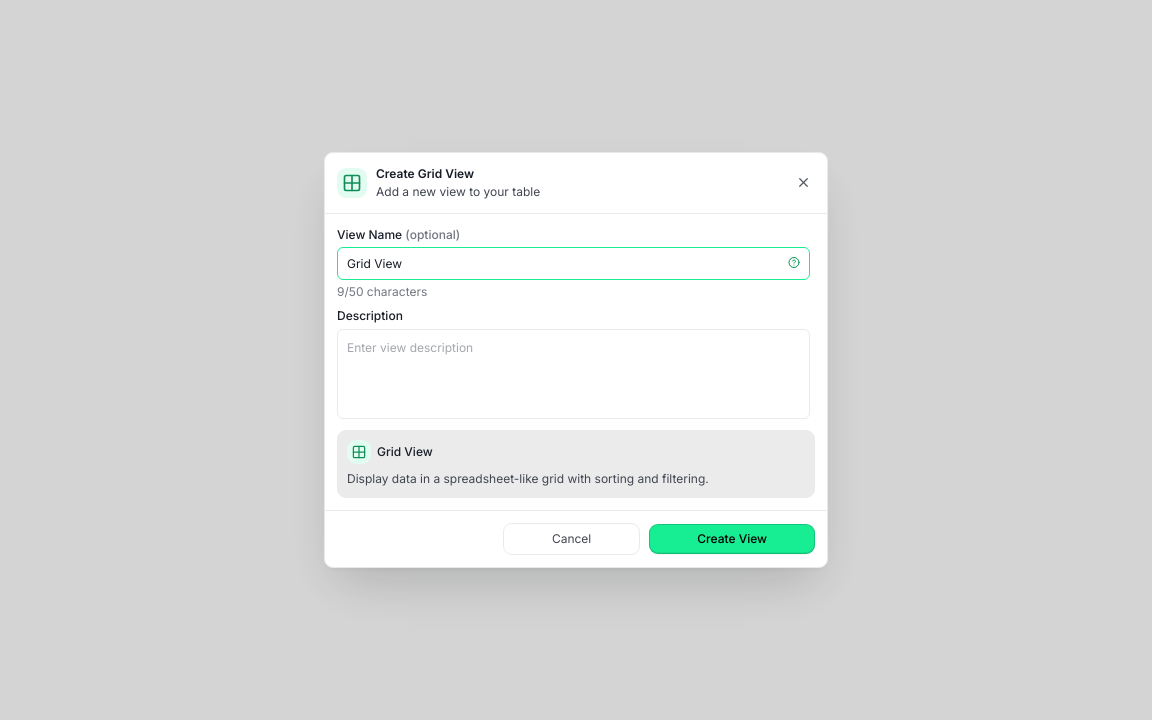
Test: CreateViewModal › form validation › shows validation error for duplicate view name
Replace the text in the field labelled "View Name (optional)" with "Existing View" at (574, 263), box [337, 247, 810, 280]
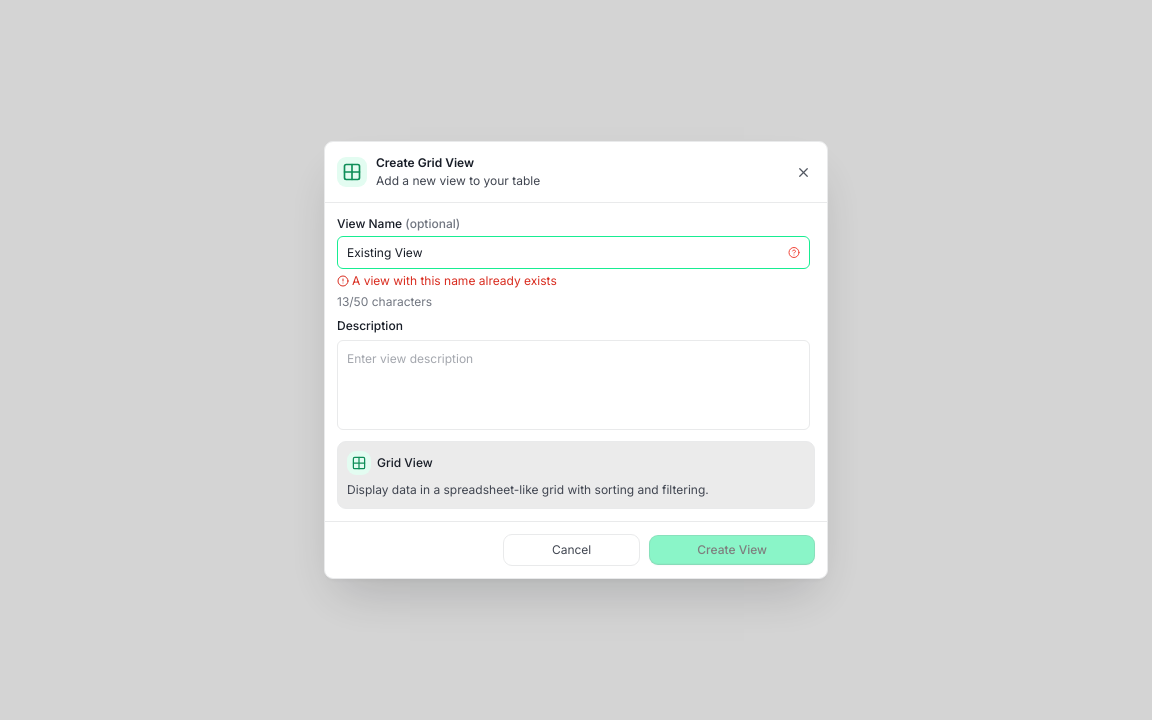
Check: the text "A view with this name already exists" is shown, box [352, 272, 557, 290]
